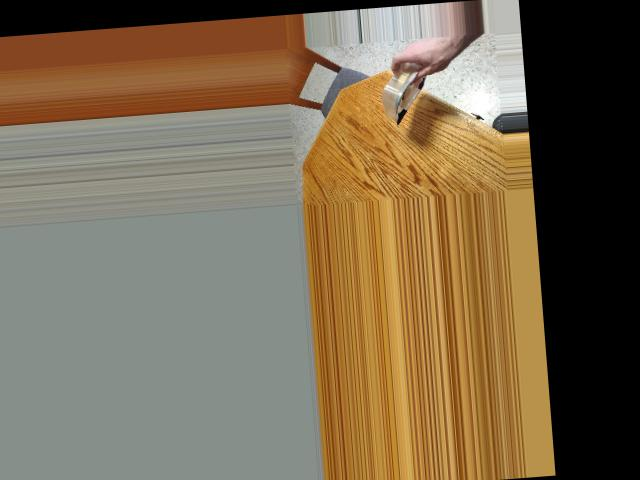cheese: (371, 52, 450, 120)
